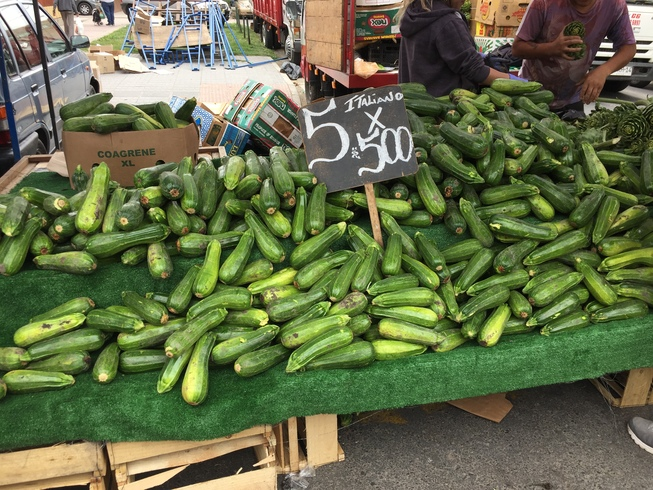precio: (296, 81, 425, 191)
